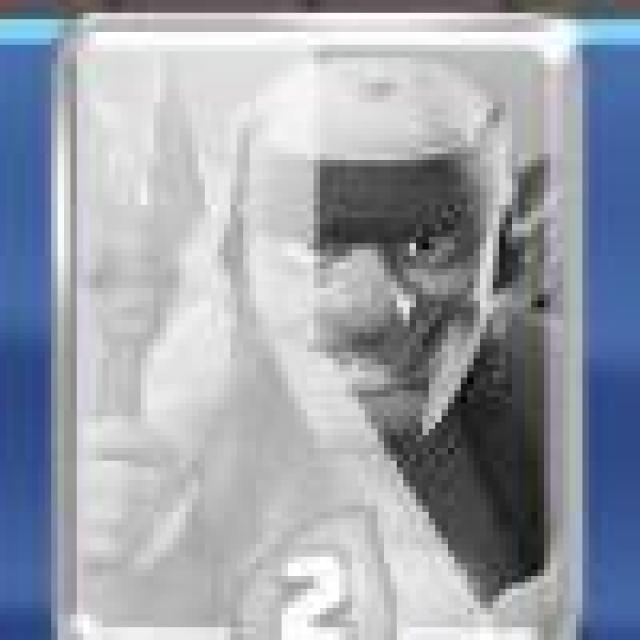Spear_Goblins: (62, 21, 572, 640)
